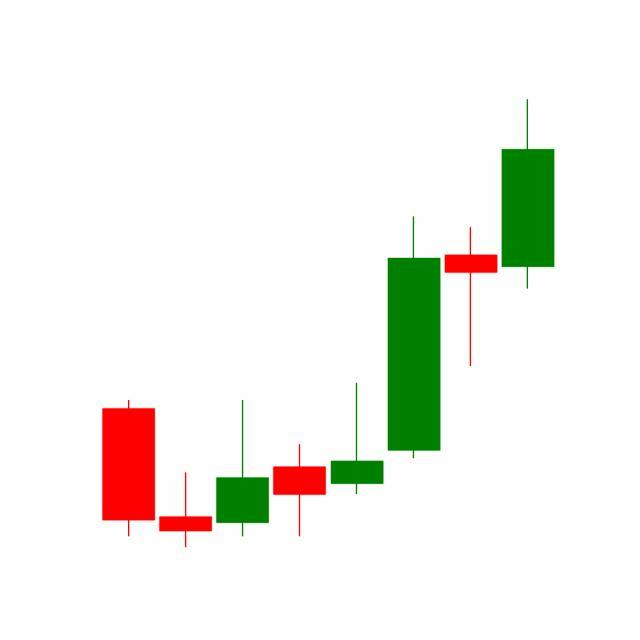Hikkake Pattern: (270, 100, 555, 543)
